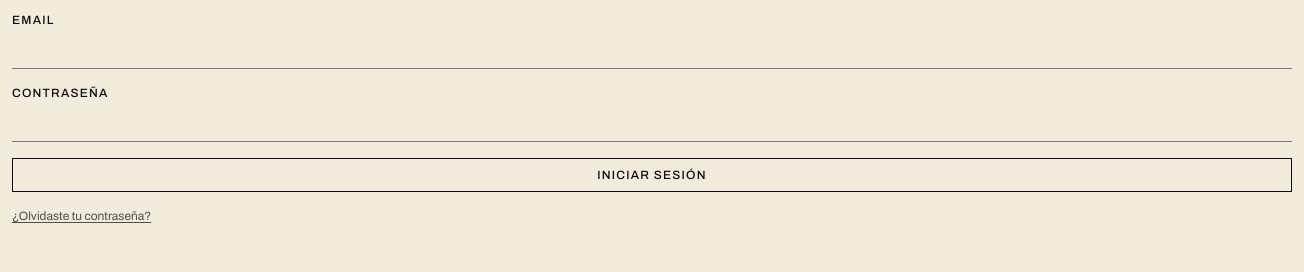
LoginForm › muestra el mensaje generico cuando el login falla
Step 1. Type "ana@clack.com" into the field labelled "Email" → (652, 50), box [12, 32, 1292, 69]
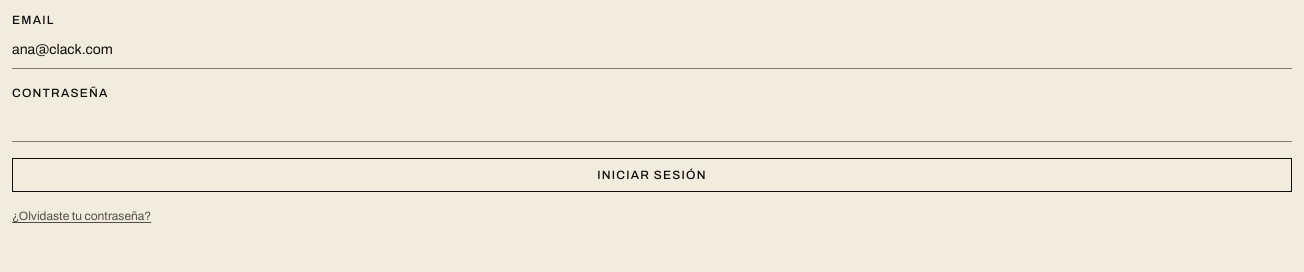
Step 2. Type "12345678" into the password field labelled "Contraseña" → (652, 124), box [12, 105, 1292, 142]
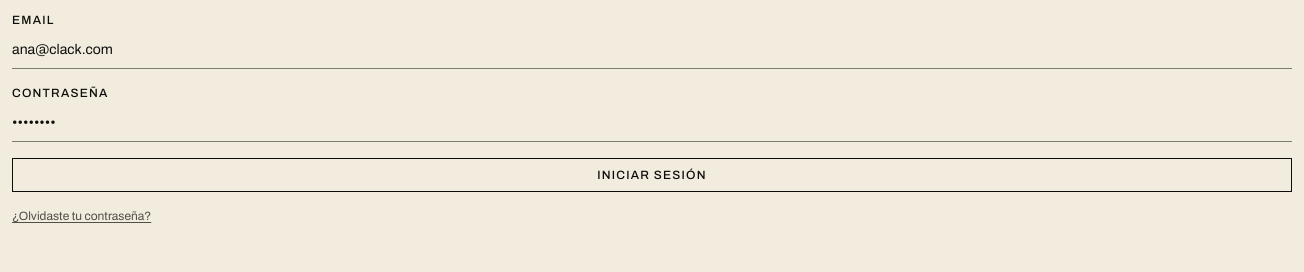
Step 3. Click the button "Iniciar sesión" → (652, 175), box [12, 158, 1292, 192]
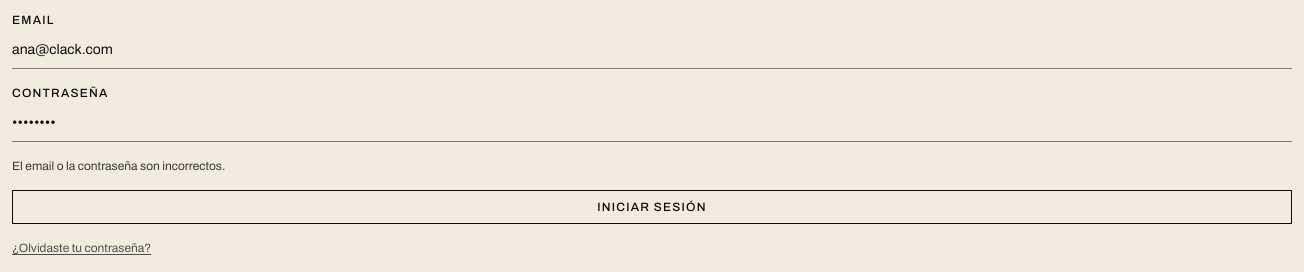
Expected: the button "Iniciar sesión" is enabled, [12, 190, 1292, 224]
Expected: the text "El email o la contraseña son incorrectos." is shown, [12, 159, 225, 173]
